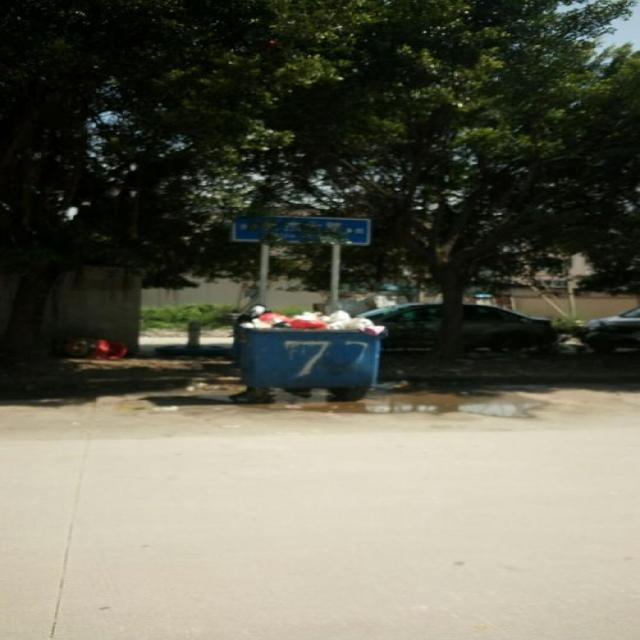overflow: (236, 308, 386, 388)
